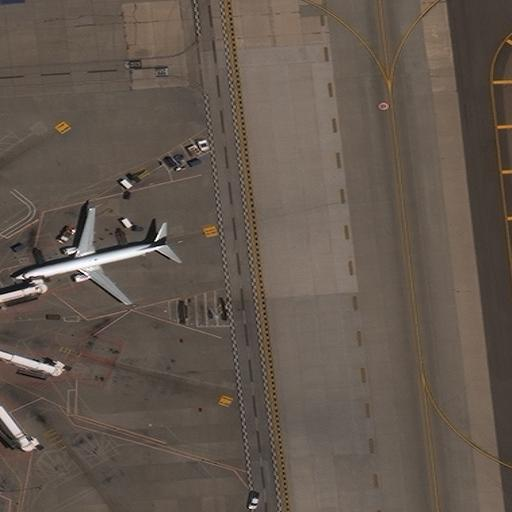Medium Civil Transport: (15, 208, 167, 305)
